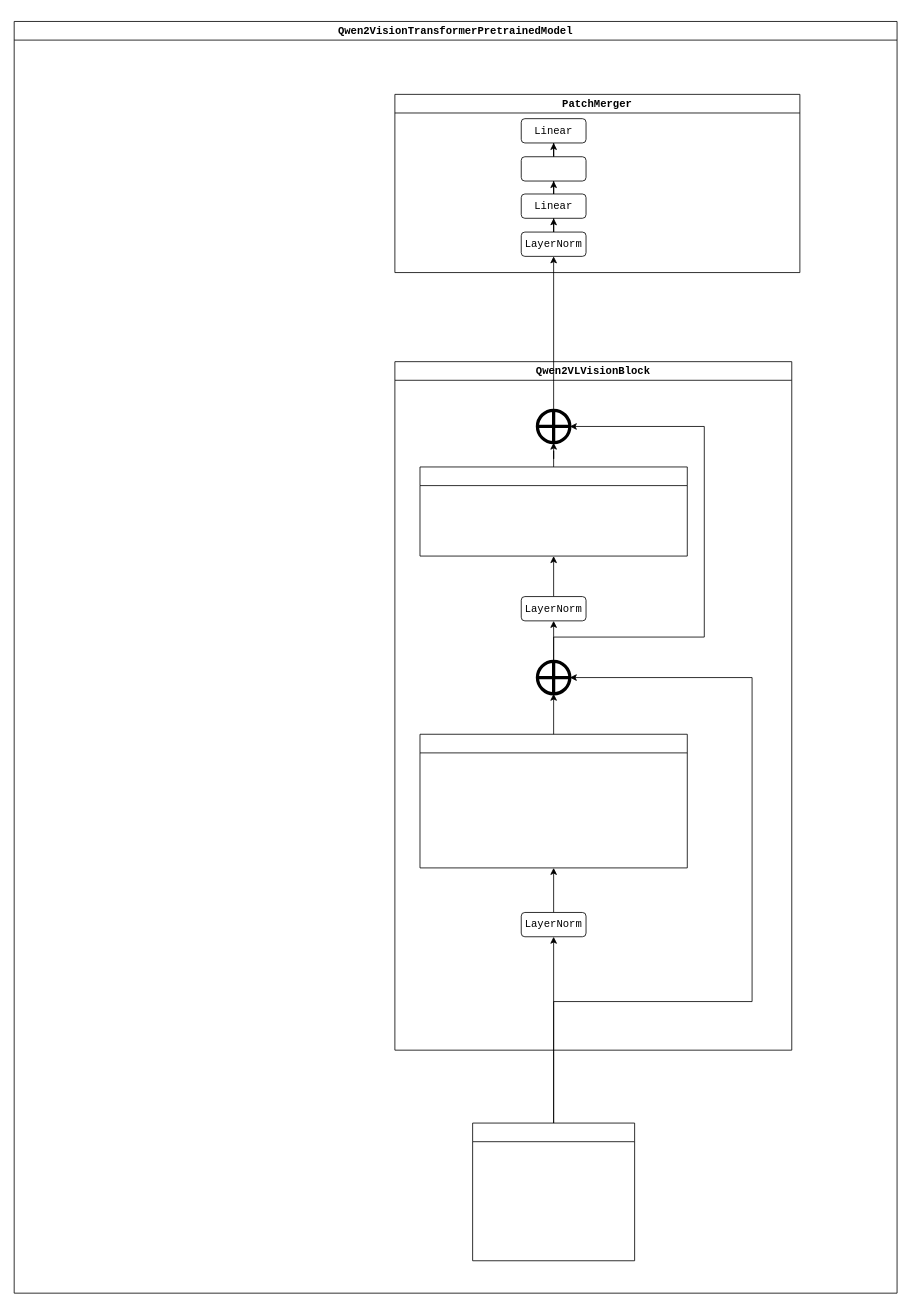
Some shapes in this 911 by 1307 pixel diagram are drawn without their labels. Here are the shapes that lost their labels. From the top down, the centre of each, then its label:
At pixel 553 168: "GELU".
At pixel 553 511: "VisionMlp".
At pixel 553 800: "QWEN2_VL_VISION_ATTENTION".
At pixel 553 1191: "PatchEmbed".
